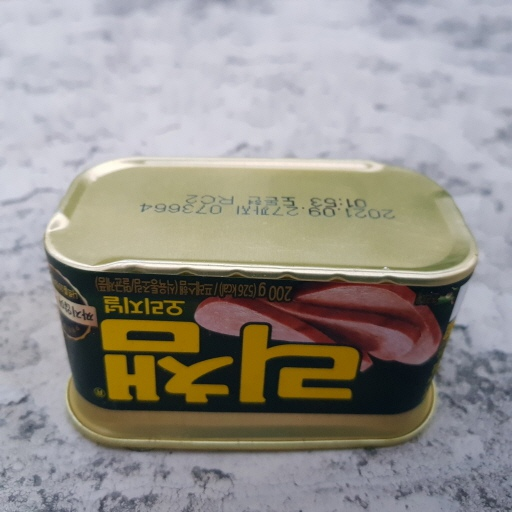Metal_2: (45, 157, 481, 453)
